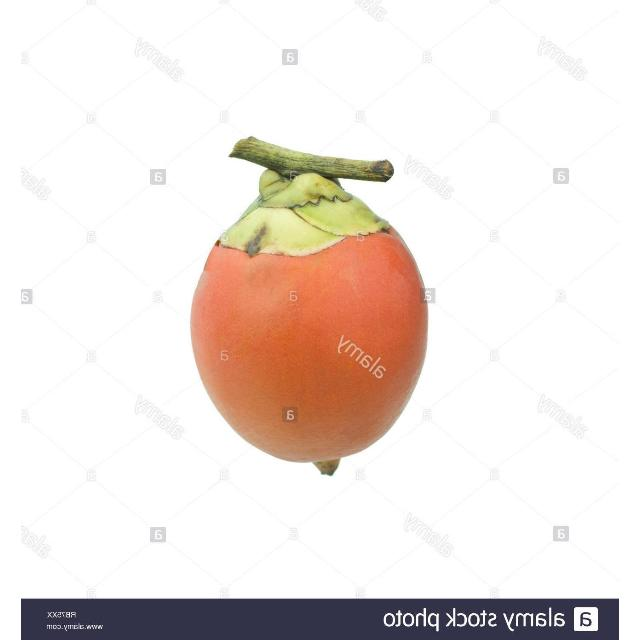good: (190, 139, 430, 476)
